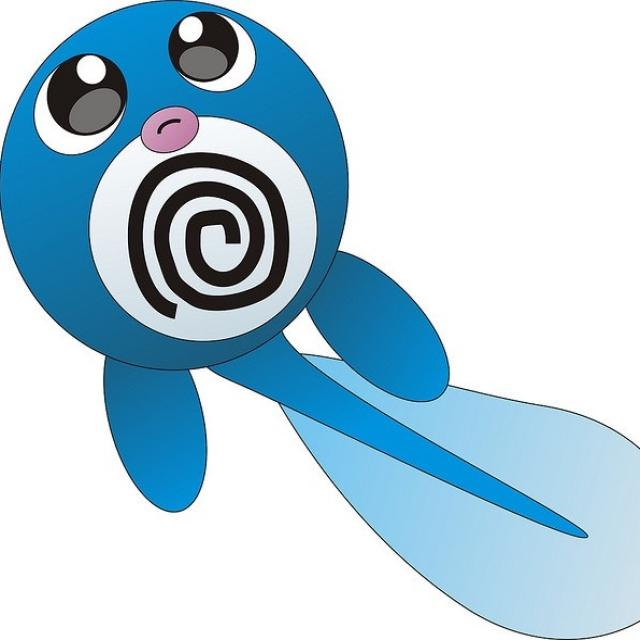Poliwag: (4, 1, 467, 524)
